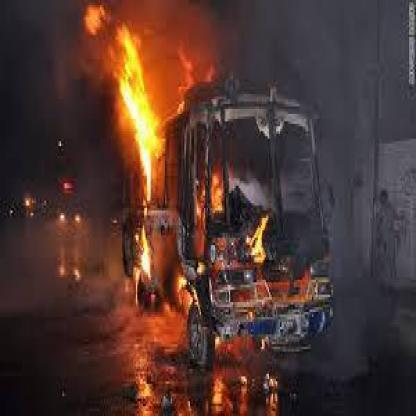fire: (81, 0, 277, 312)
